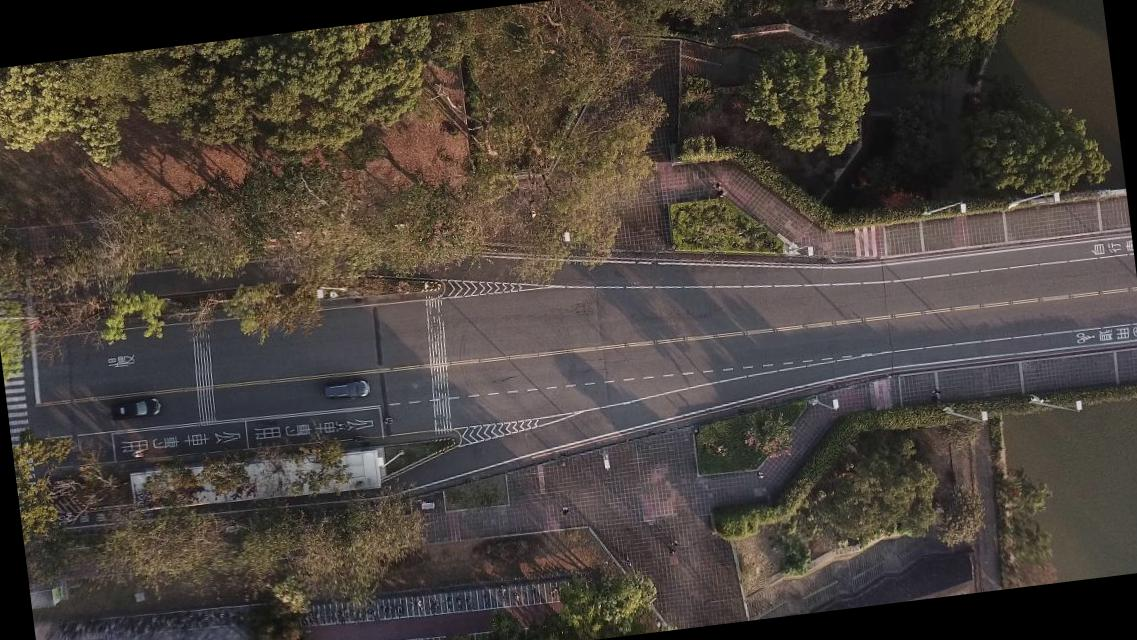vehicle: (108, 396, 160, 421), (322, 378, 370, 401)
